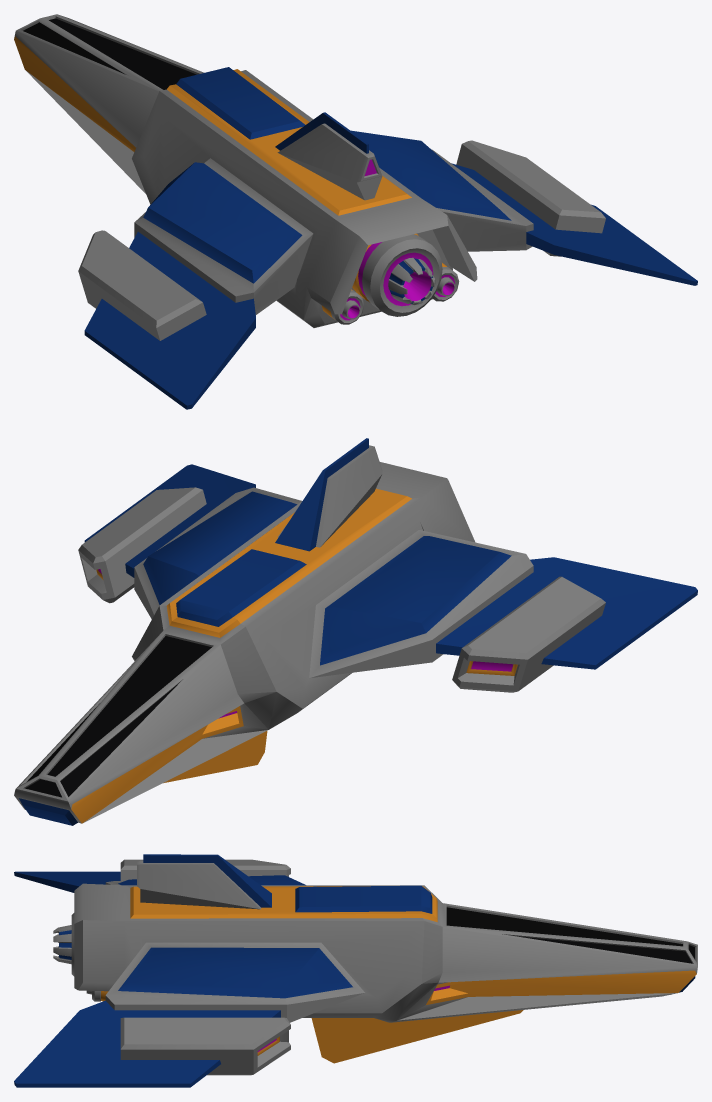
The model's file is spaceShipColored.obj.
3 views of the same model, one above another, from view 1: azimuth 30°, elevation 25°; view 2: azimuth 150°, elevation 25°; view 3: azimuth 270°, elevation 25° (orthographic). The views are drawn at different scales.
Visible parts, largest first — view 1: SpaceShipColored; view 2: SpaceShipColored; view 3: SpaceShipColored.
Part boxes in pixels (box(x1,y1,x2,y2)): SpaceShipColored: box(14, 14, 697, 409); SpaceShipColored: box(14, 438, 697, 825); SpaceShipColored: box(14, 854, 697, 1087).
Size of the model in its own units: 89.22 by 40.73 by 121.
